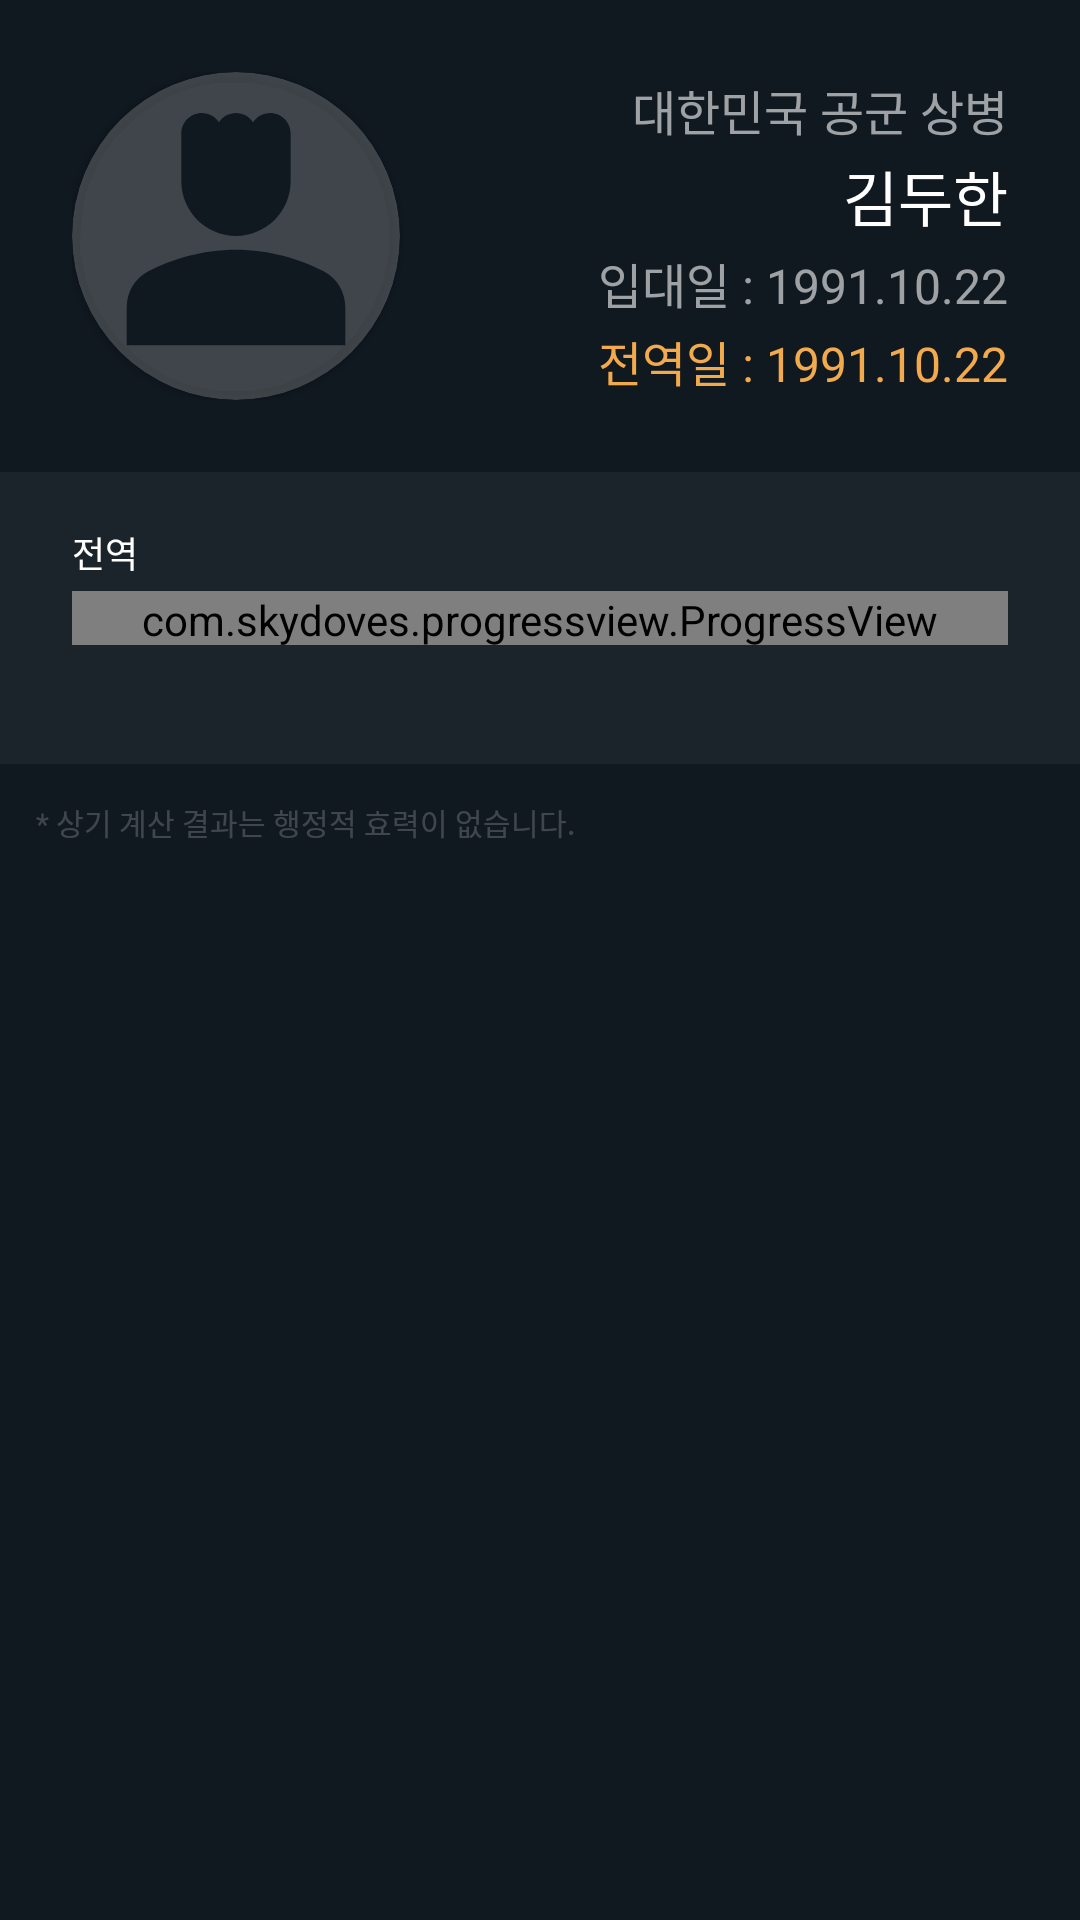

Icon bounding boxes for this 1080*1920 phone screenshot, format (x1, y1, x2, y2):
person: (72, 72, 400, 400)
